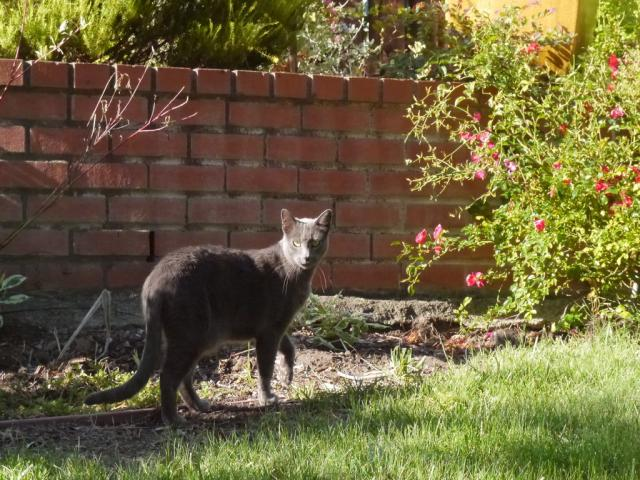Cat: (83, 207, 337, 429)
